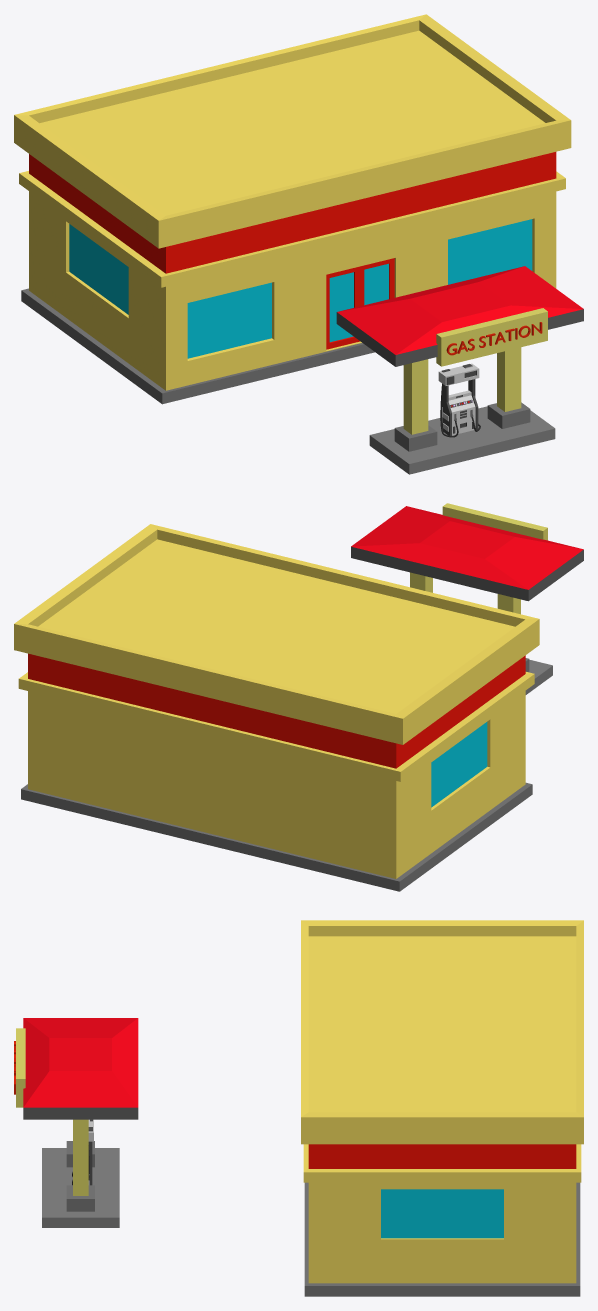
File: lubricator.fbx
3 views of the same model, one above another, from view 1: azimuth 30°, elevation 25°; view 2: azimuth 150°, elevation 25°; view 3: azimuth 270°, elevation 25° (orthographic). The views are drawn at different scales.
Visible parts, largest first — view 1: Cube.006, red, glass, gasstationroof.003, gasstation.027, tile, title_plane, gasstation.023, lubricator, gasstationroof, gasstation.013, Text; view 2: Cube.006, red, gasstationroof.003, tile, gasstationroof, glass, title_plane, gasstation.023; view 3: Cube.006, gasstationroof.003, red, glass, tile, gasstation.027, gasstationroof, gasstation.023, gasstation.013, title_plane.
Boxes of the visible parts, left/top/right/bottom form: Cube.006: left=14, top=14, right=571, bottom=390; red: left=29, top=152, right=556, bottom=349; glass: left=69, top=219, right=532, bottom=358; gasstationroof.003: left=337, top=266, right=583, bottom=354; gasstation.027: left=369, top=406, right=555, bottom=474; tile: left=21, top=288, right=374, bottom=404; title_plane: left=436, top=308, right=547, bottom=366; gasstation.023: left=403, top=347, right=521, bottom=434; lubricator: left=438, top=363, right=479, bottom=435; gasstationroof: left=336, top=309, right=583, bottom=366; gasstation.013: left=394, top=402, right=530, bottom=451; Text: left=446, top=322, right=542, bottom=355; Cube.006: left=14, top=524, right=539, bottom=878; red: left=28, top=653, right=525, bottom=768; gasstationroof.003: left=351, top=506, right=583, bottom=589; tile: left=21, top=782, right=532, bottom=891; gasstationroof: left=351, top=546, right=583, bottom=601; glass: left=431, top=722, right=487, bottom=807; title_plane: left=442, top=503, right=547, bottom=540; gasstation.023: left=410, top=572, right=520, bottom=614; Cube.006: left=301, top=920, right=583, bottom=1283; gasstationroof.003: left=23, top=1018, right=138, bottom=1107; red: left=308, top=1144, right=576, bottom=1168; glass: left=381, top=1189, right=503, bottom=1238; tile: left=304, top=1182, right=580, bottom=1296; gasstation.027: left=42, top=1148, right=119, bottom=1227; gasstationroof: left=23, top=1107, right=138, bottom=1119; gasstation.023: left=73, top=1119, right=88, bottom=1195; gasstation.013: left=66, top=1141, right=94, bottom=1211; title_plane: left=16, top=1028, right=25, bottom=1107.
Bounding box in the file's own units: 1198 × 516 × 1466.
